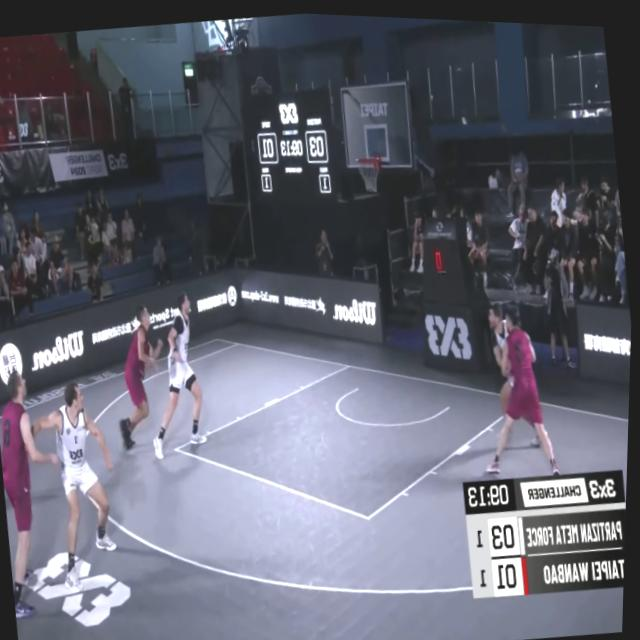hoop: (353, 146, 386, 194)
player: (29, 376, 134, 594), (0, 359, 84, 625), (469, 293, 565, 475), (140, 289, 215, 460), (480, 294, 554, 451), (110, 302, 180, 451)
